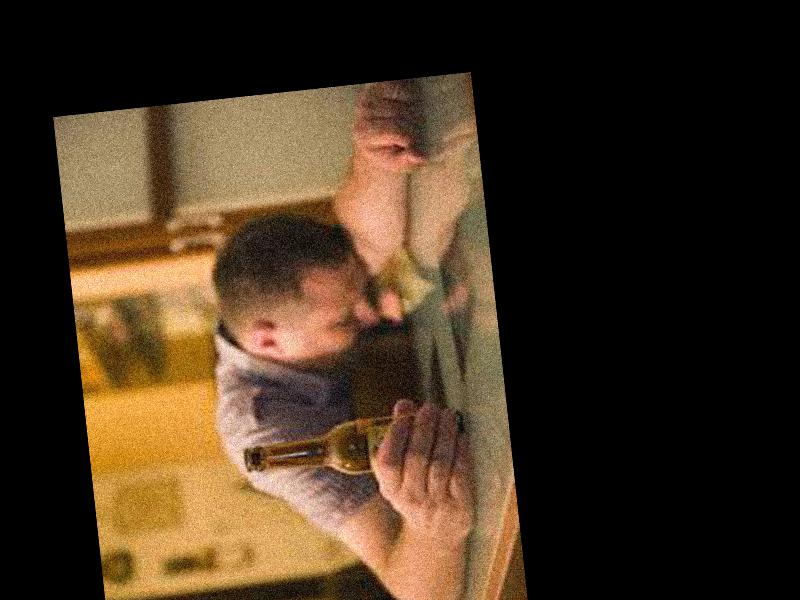Beer: (240, 410, 468, 483)
